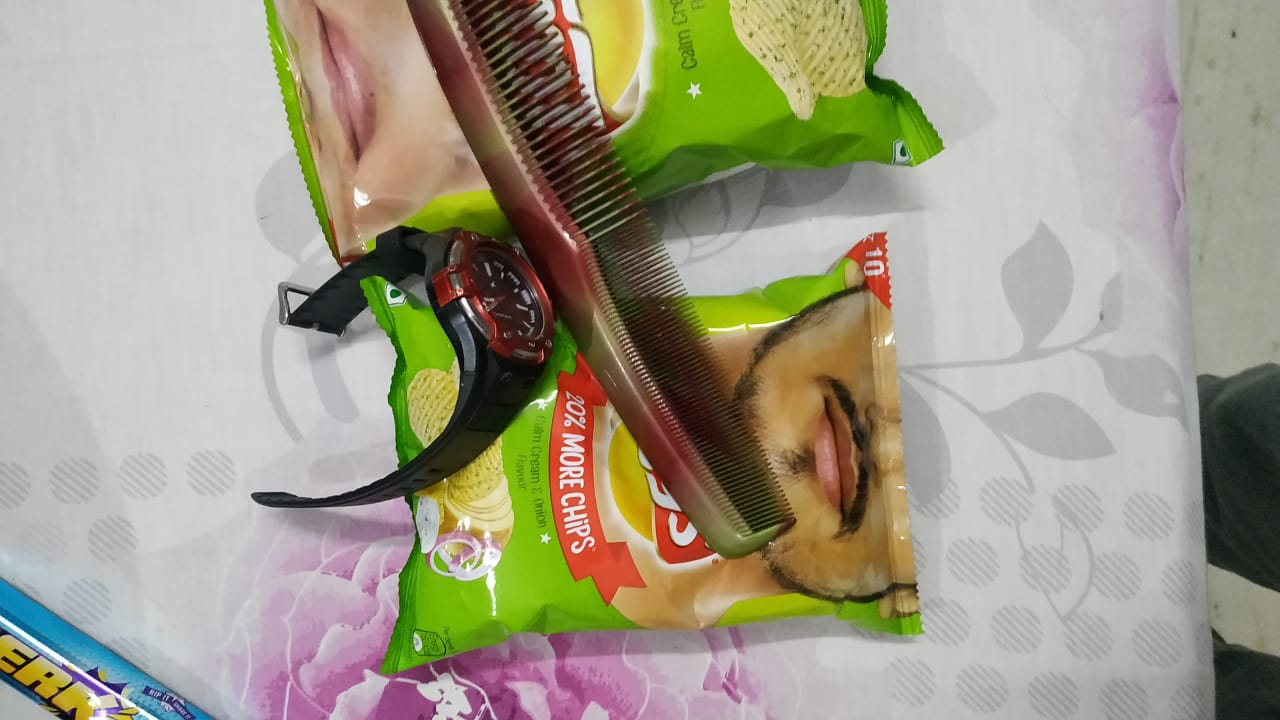lays chips: (371, 245, 932, 638)
